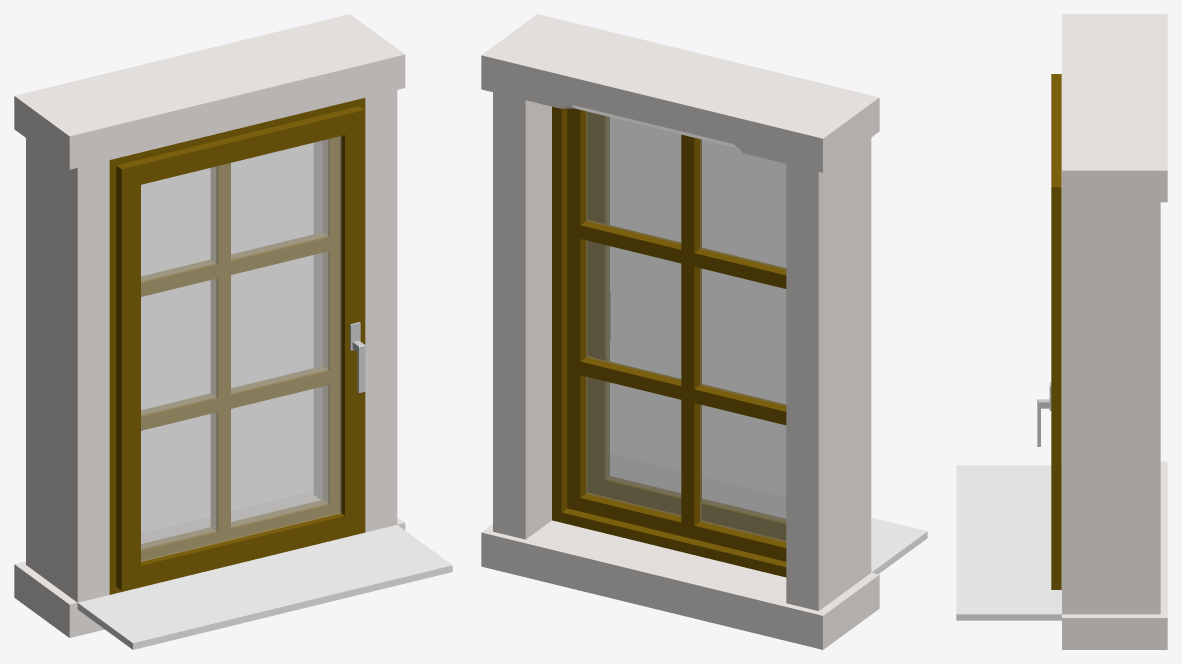
Rendered from sweethome3d-contributions-deep-window.glb.
3 renders of one model, left to right at view 1: azimuth 30°, elevation 25°; view 2: azimuth 150°, elevation 25°; view 3: azimuth 270°, elevation 25°, orthographic. The views are drawn at different scales.
Parts seen in each view (by area): view 1: 17_17, 7_7, 1_1.001, 1_1, 19_19, 9_9, 15_15.001, 16_16.001, 15_15, 18_18; view 2: 1_1, 7_7, 17_17, 15_15, 1_1.001, 19_19, 16_16, 9_9, 18_18, 15_15.001; view 3: 1_1, 1_1.001, 9_9, 19_19.
Boxes of the visible parts, x1,y1,x2,y2 form: 17_17: [141, 136, 341, 561]; 7_7: [141, 139, 327, 548]; 1_1.001: [55, 43, 405, 637]; 1_1: [14, 14, 389, 626]; 19_19: [116, 106, 364, 590]; 9_9: [77, 525, 452, 649]; 15_15.001: [141, 136, 339, 560]; 16_16.001: [109, 98, 365, 594]; 15_15: [141, 139, 327, 548]; 18_18: [141, 135, 344, 565]; 1_1: [481, 25, 864, 649]; 7_7: [586, 111, 786, 542]; 17_17: [606, 117, 785, 521]; 15_15: [561, 108, 786, 566]; 1_1.001: [523, 14, 879, 618]; 19_19: [588, 112, 786, 540]; 16_16: [552, 106, 786, 577]; 9_9: [610, 454, 927, 574]; 18_18: [604, 116, 786, 523]; 15_15.001: [586, 111, 786, 542]; 1_1: [1090, 14, 1167, 649]; 1_1.001: [1062, 14, 1090, 649]; 9_9: [956, 465, 1061, 620]; 19_19: [1051, 74, 1061, 589].
Bounding box in the file's own units: 105 × 150 × 60.
